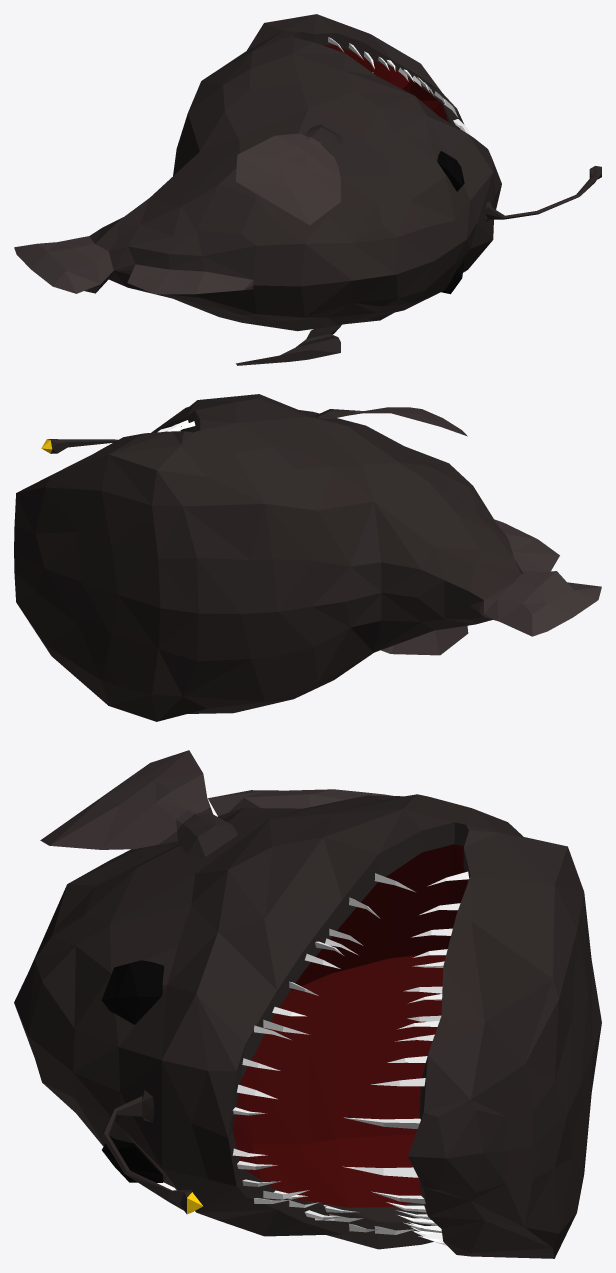
The model's file is Anglerfish.obj.
The picture shows the model from 3 angles, top to bottom: view 1: azimuth 30°, elevation 25°; view 2: azimuth 150°, elevation 25°; view 3: azimuth 270°, elevation 25°; orthographic projection. The views are drawn at different scales.
Visible parts, largest first — view 1: Anglerfish_0; view 2: Anglerfish_0; view 3: Anglerfish_0.
Boxes of the visible parts, bbox=[...] form: Anglerfish_0: bbox=[14, 14, 601, 365]; Anglerfish_0: bbox=[14, 394, 601, 721]; Anglerfish_0: bbox=[14, 750, 601, 1258].
Size of the model in its own units: 0.7448 by 0.3458 by 0.4447.
1 material, 1 textured.
